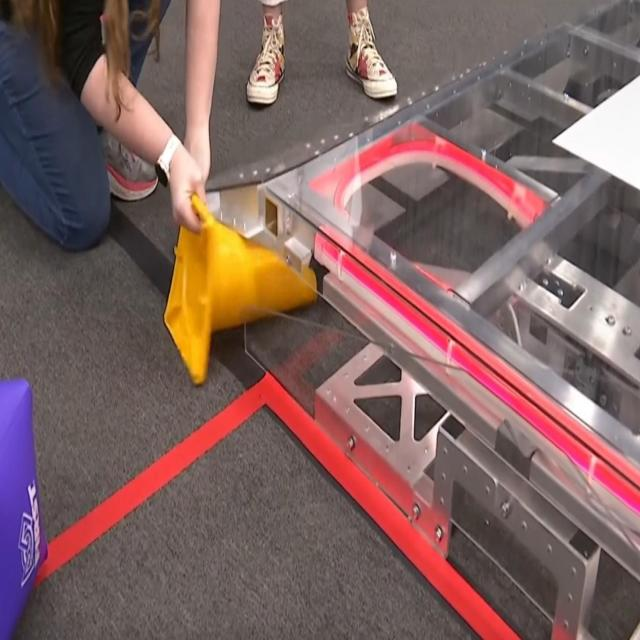frc_cone: (164, 186, 320, 392)
frc_cube: (0, 372, 50, 640)
